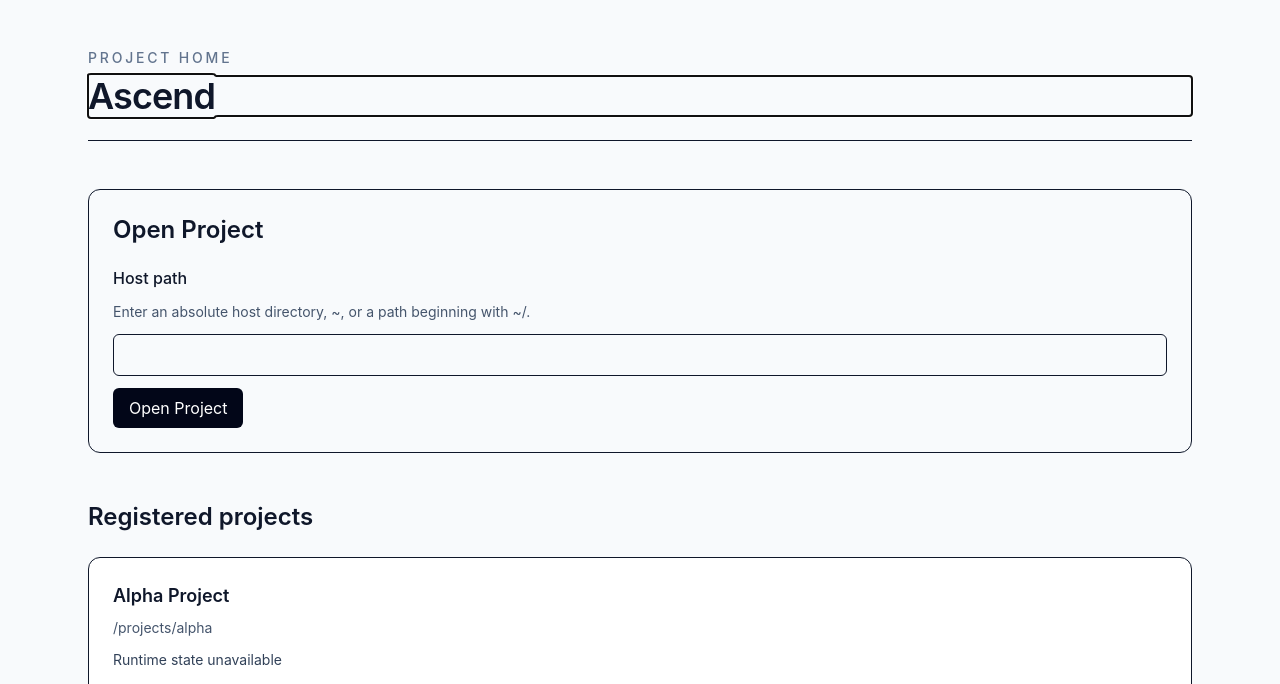
Test: Project Home open interaction › renders typed path_required as a preserved associated correction
Type "/exact host path" into the field labelled "Host path" at (640, 355), box 113,334 -> 1167,376
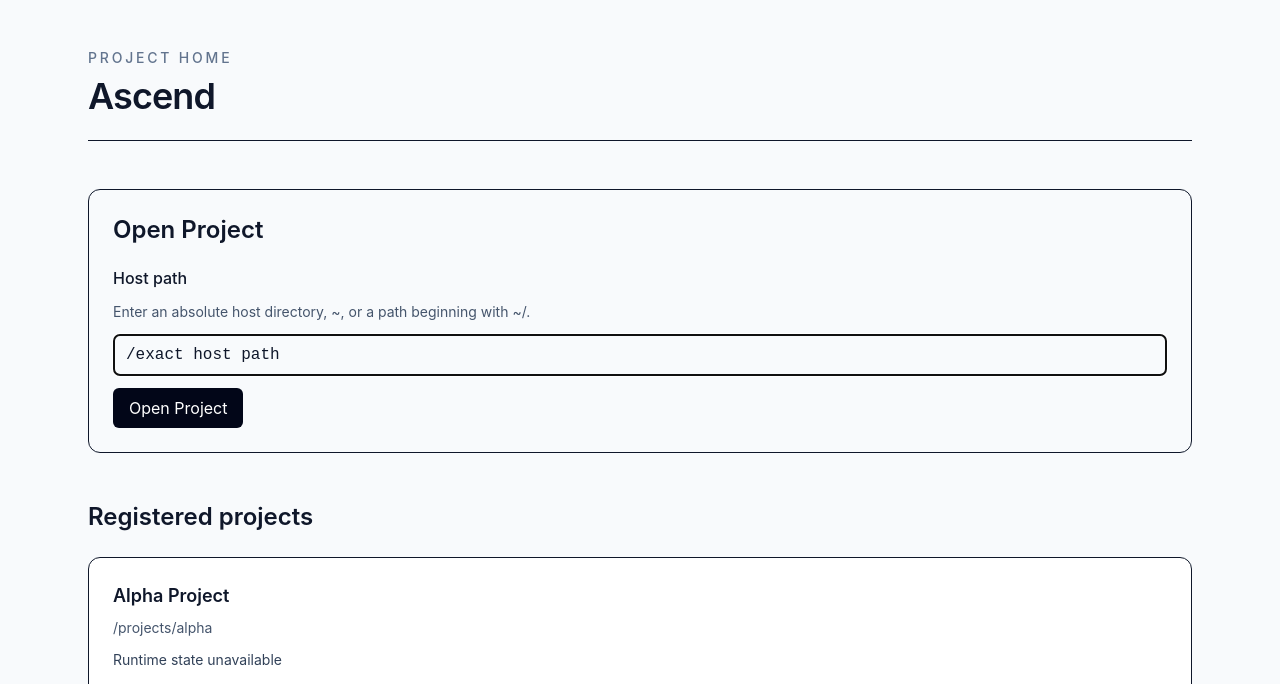
Click the button "Open Project" at (178, 408), box 113,388 -> 244,428
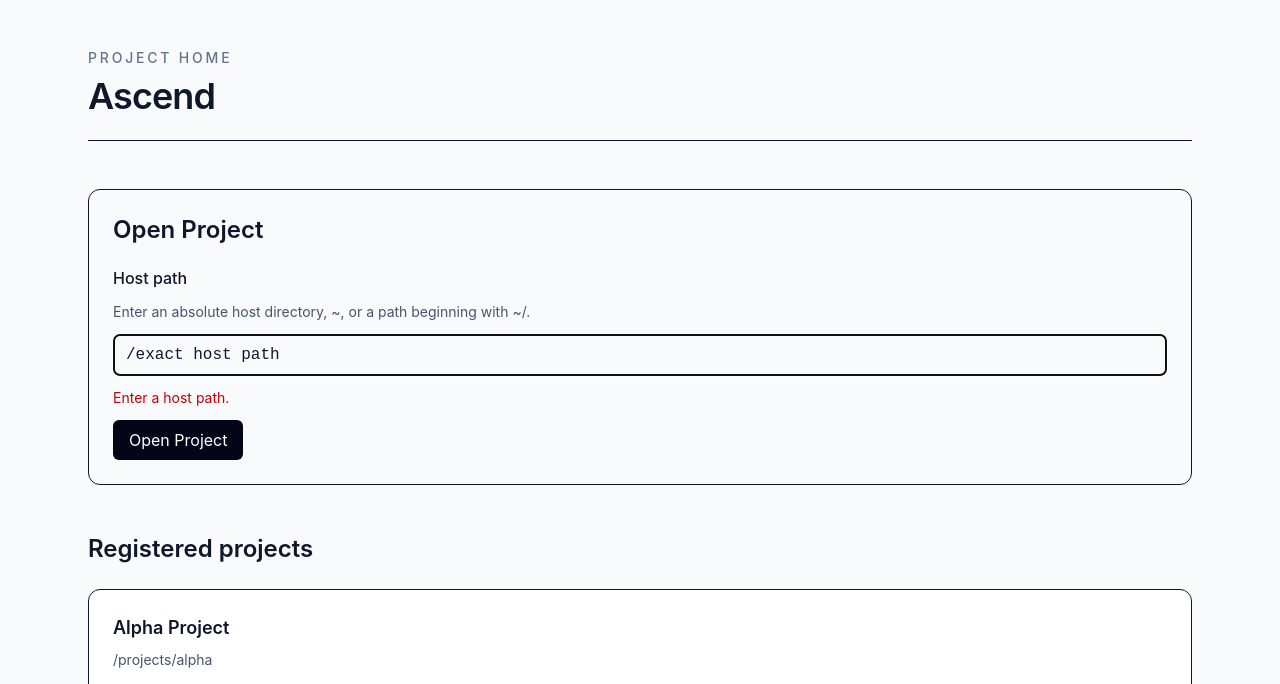
expect the message reads "Enter a host path.": met, box 113,389 -> 229,406
